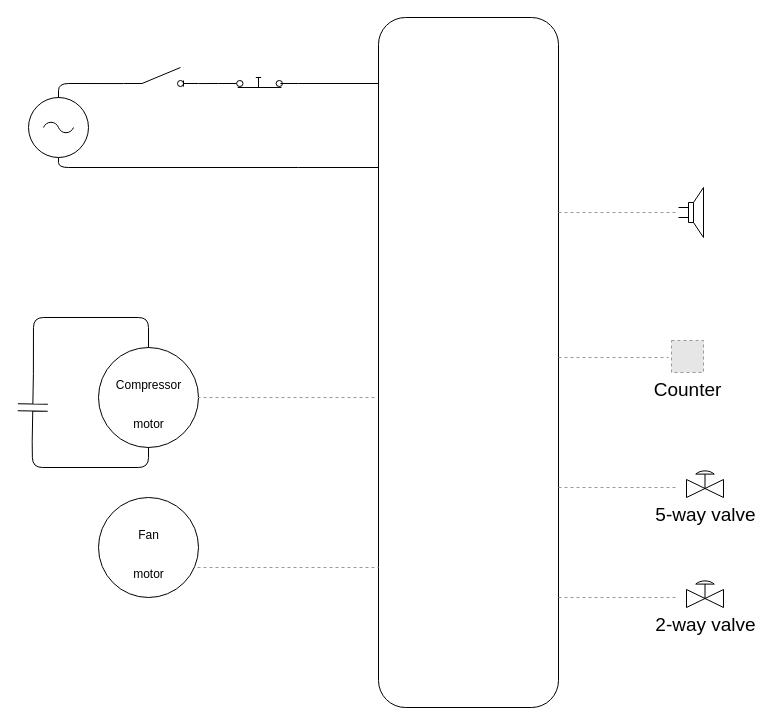
Image size: 773x725. Some labels were removed from this diagram. Grey dashed boxes stand in for pictures. The shapes that lost their labels are listed below. From the top down, each one's box as (x1, y1, x2, y2) in pixels, then its label:
(678, 186, 704, 238): Buzzer
(378, 16, 558, 708): electronics board
